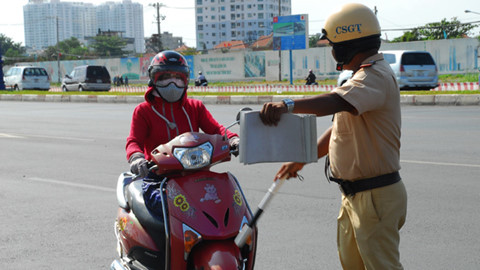police: (246, 4, 423, 270)
